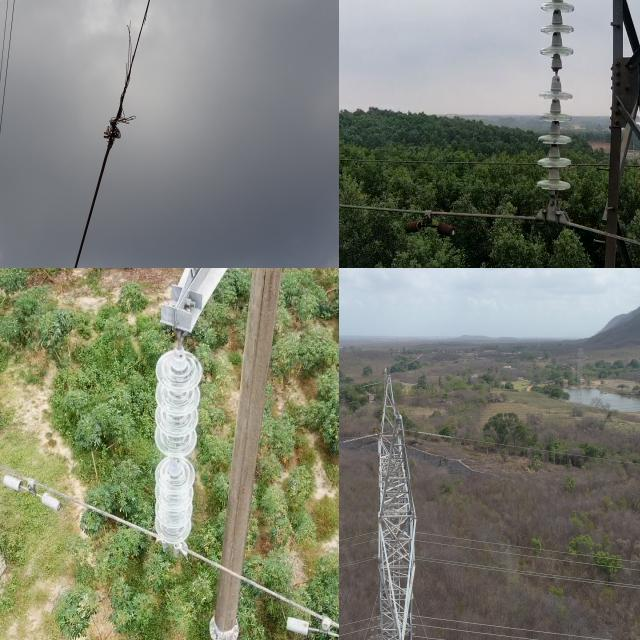杆塔: (551, 0, 640, 268), (369, 360, 431, 640)
正常电缆: (0, 455, 339, 640), (339, 194, 548, 225)
正常绝缘子: (144, 324, 198, 562), (528, 0, 584, 198)
电缆破损: (96, 0, 174, 159)
绝缘子破损: (550, 62, 563, 86), (167, 457, 183, 470)
